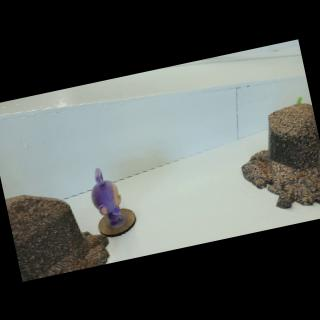teletubby: (91, 168, 121, 225), (296, 96, 302, 104)
